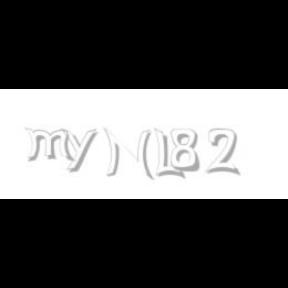2: (205, 128, 239, 176)
8: (171, 128, 200, 172)
L: (154, 128, 182, 180)
N: (102, 128, 152, 180)
m: (24, 128, 76, 162)
y: (61, 128, 101, 172)
